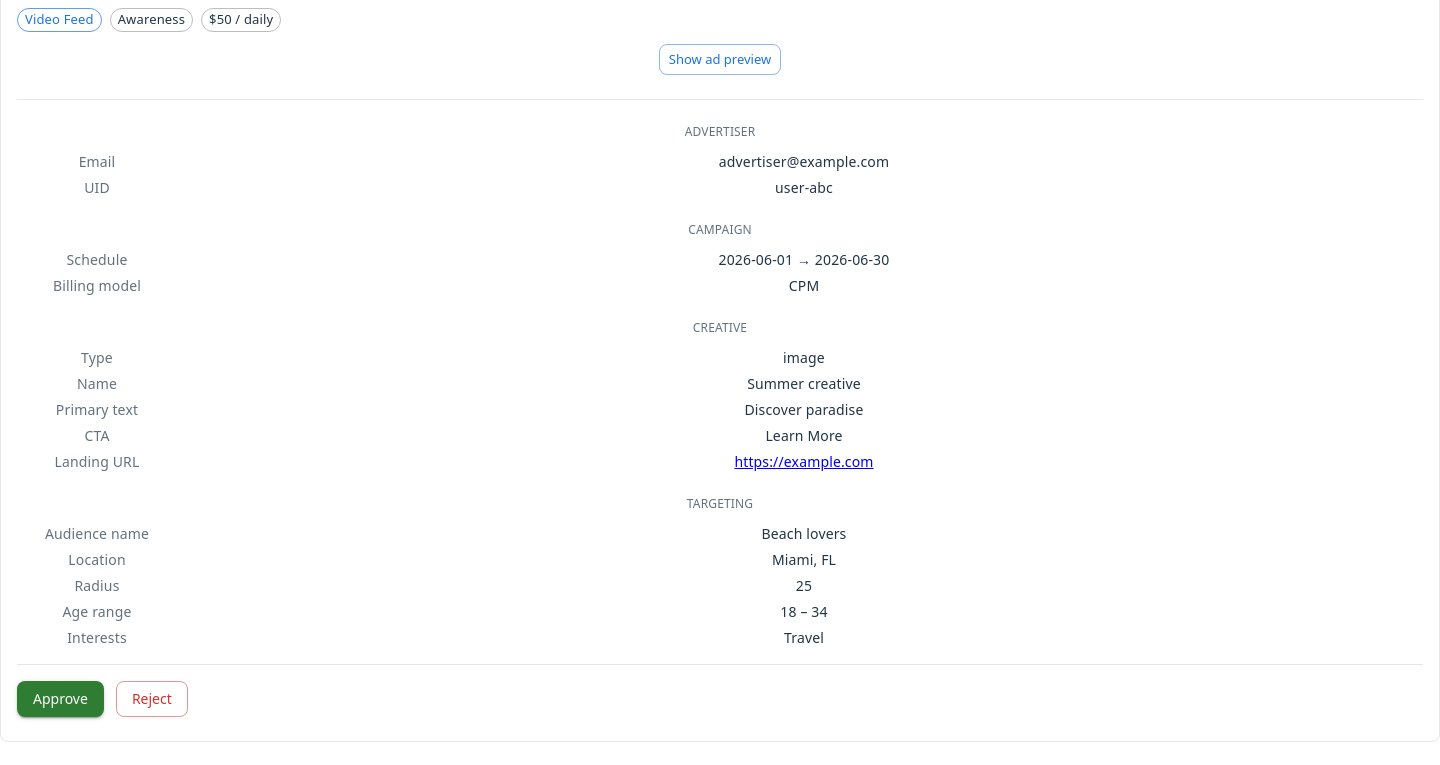
CampaignReviewCard › shows rejection form when Reject is clicked
Click the button "Reject" at (152,699), box [116, 681, 188, 717]
(page scrolled)
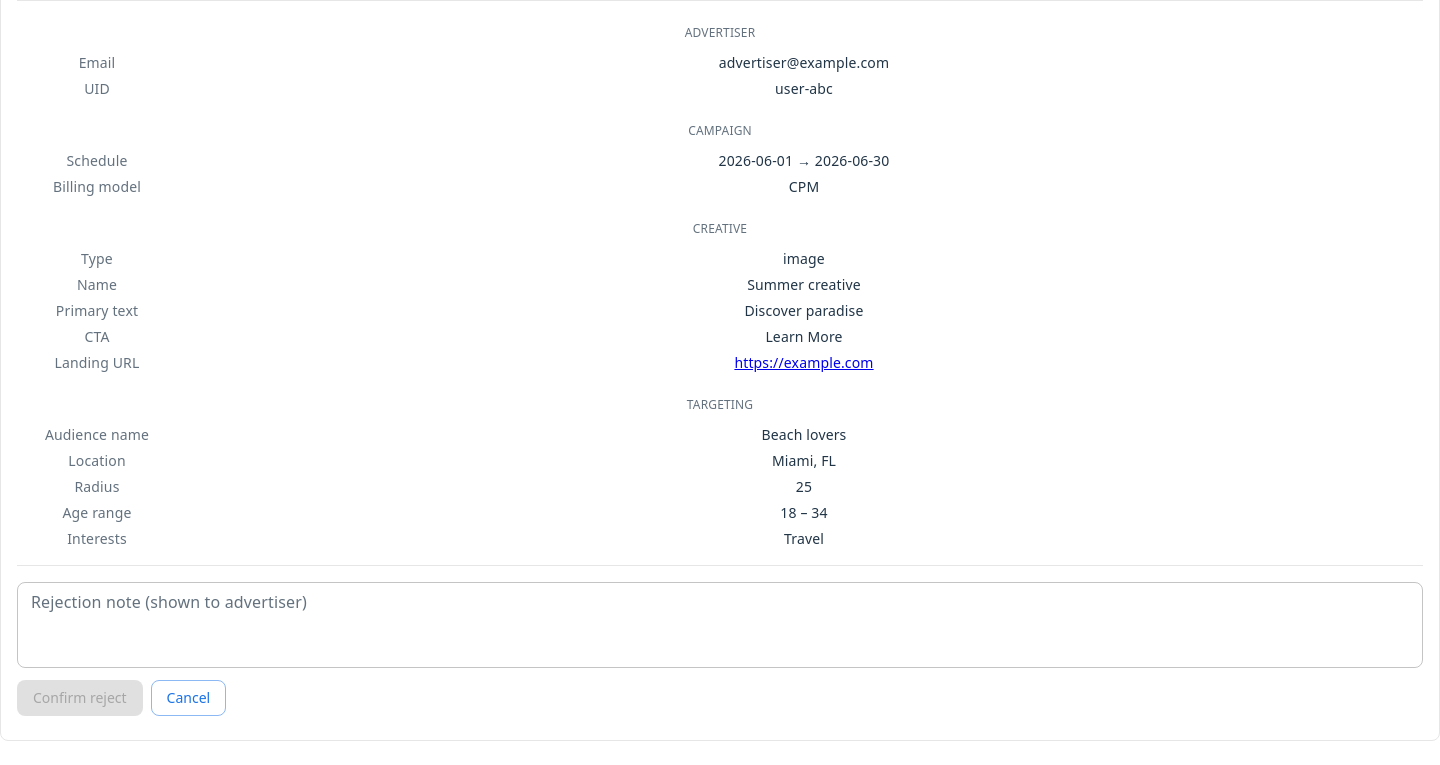
Check: the text box labelled "Rejection note (shown to advertiser)" is shown, box [31, 590, 1409, 659]
Check: the button "Confirm reject" is shown, box [17, 680, 143, 716]
Check: the button "Cancel" is shown, box [151, 680, 226, 716]
